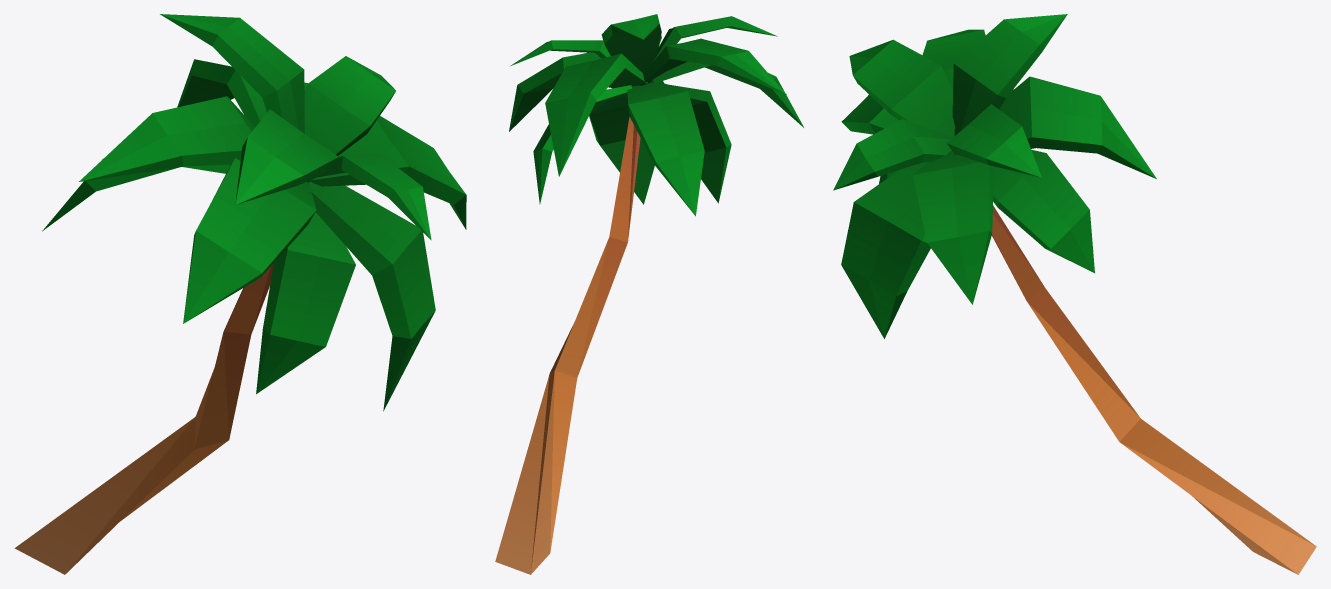
File: GL-Palmtree-02-LOD2.fbx
3 renders of one model, left to right at view 1: azimuth 30°, elevation 25°; view 2: azimuth 150°, elevation 25°; view 3: azimuth 270°, elevation 25°, orthographic. The views are drawn at different scales.
Parts seen in each view (by area): view 1: GL_Palmtree_02; view 2: GL_Palmtree_02; view 3: GL_Palmtree_02.
Boxes of the visible parts, x1,y1,x2,y2 form: GL_Palmtree_02: (14,14,466,574); GL_Palmtree_02: (495,14,803,574); GL_Palmtree_02: (833,14,1316,574).
Size of the model in its own units: 2.75 by 4.41 by 3.61.
